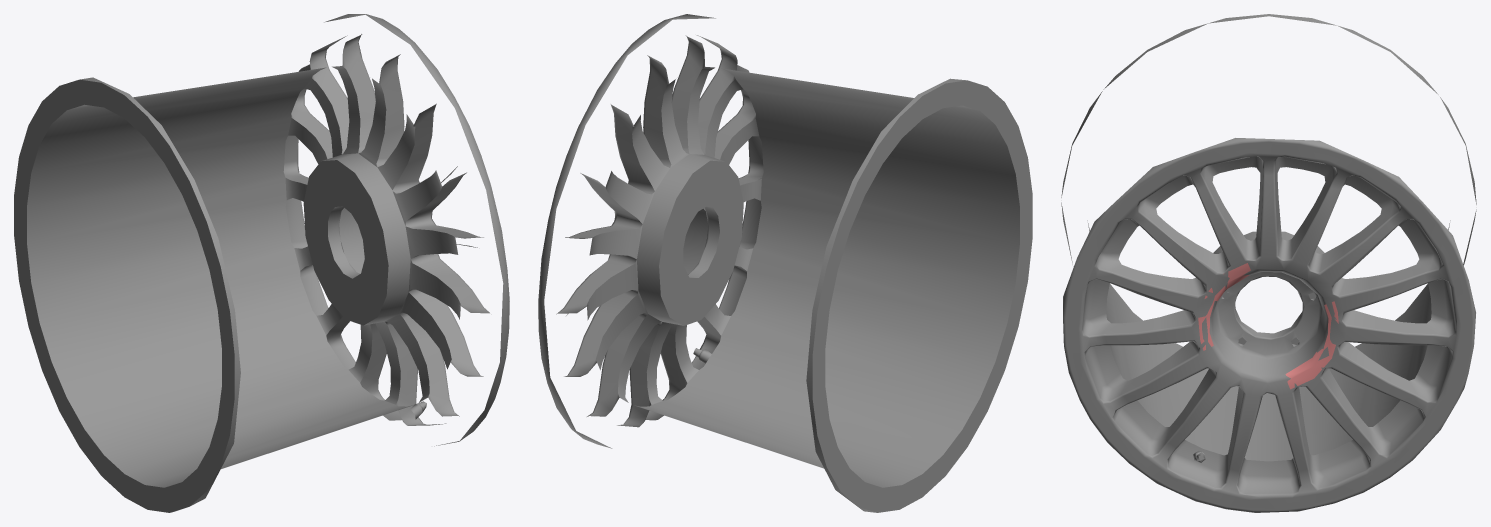
Rendered from lamborghini_gallardo_rex_rim_lr_Lod1.gltf.
The picture shows the model from 3 angles, left to right: view 1: azimuth 30°, elevation 25°; view 2: azimuth 150°, elevation 25°; view 3: azimuth 270°, elevation 25°; orthographic projection. The views are drawn at different scales.
Visible parts, largest first — view 1: lamborghini_gallardo_rex_rim_lr_Lod1; view 2: lamborghini_gallardo_rex_rim_lr_Lod1; view 3: lamborghini_gallardo_rex_rim_lr_Lod1.
Boxes of the visible parts, bbox=[...] form: lamborghini_gallardo_rex_rim_lr_Lod1: bbox=[14, 14, 509, 512]; lamborghini_gallardo_rex_rim_lr_Lod1: bbox=[538, 14, 1032, 512]; lamborghini_gallardo_rex_rim_lr_Lod1: bbox=[1061, 14, 1476, 512].
Size of the model in its own units: 0.361 by 0.5032 by 0.5052.
